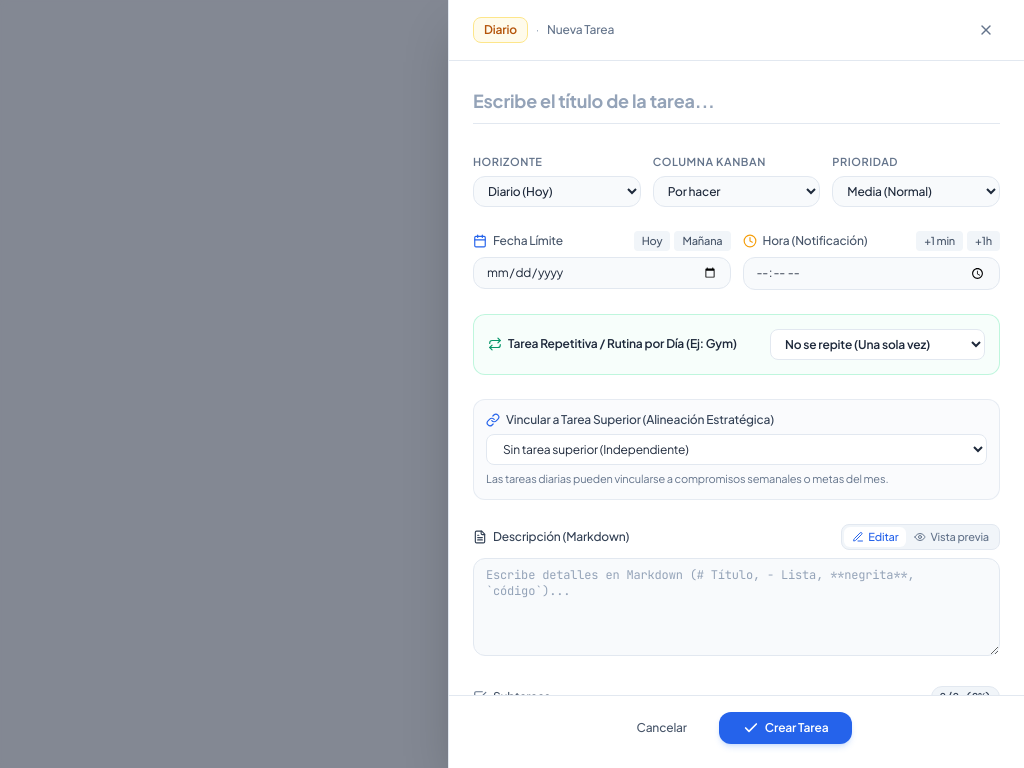
Test: Milestone 4: Kanban Board, DnD & Task Drawer Test Suite › TaskDrawer Editor & Validation › validates non-empty title and prevents submission with error message
Click the button "Crear Tarea" at (786, 728), box 719,712 -> 852,744
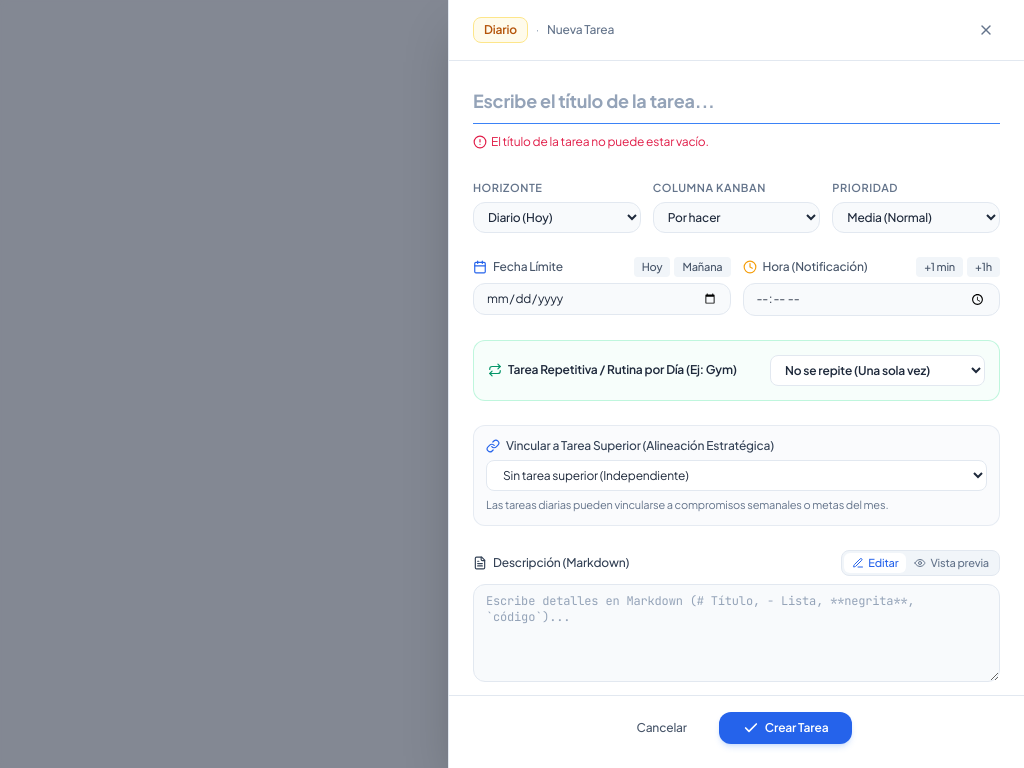
Check: the text "El título de la tarea no puede estar vacío." is shown, box 491,134 -> 709,150
